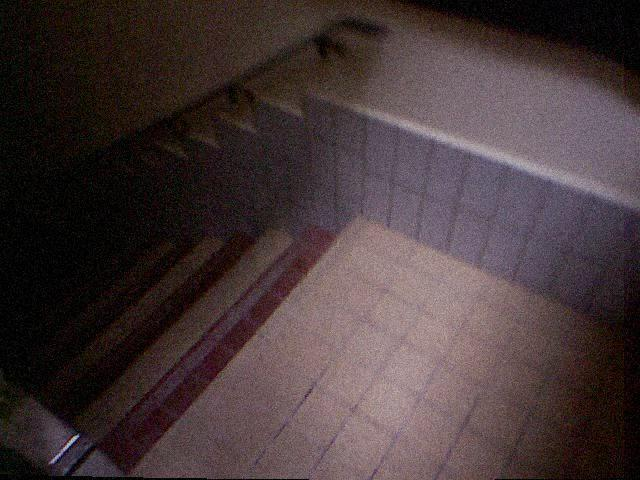Escaleras: (0, 170, 377, 479)
